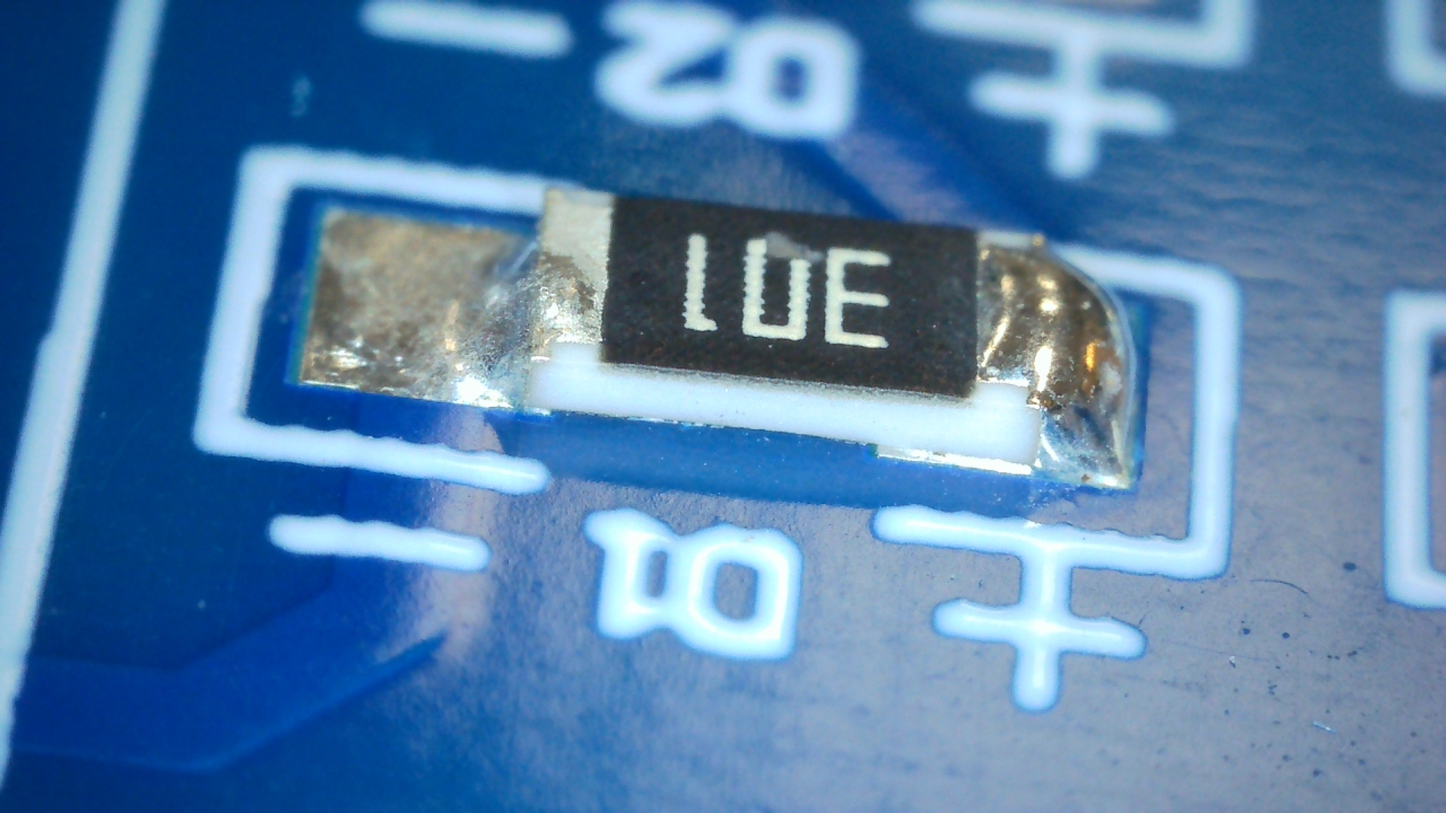NG: (977, 231, 1135, 486), (461, 188, 613, 409)
